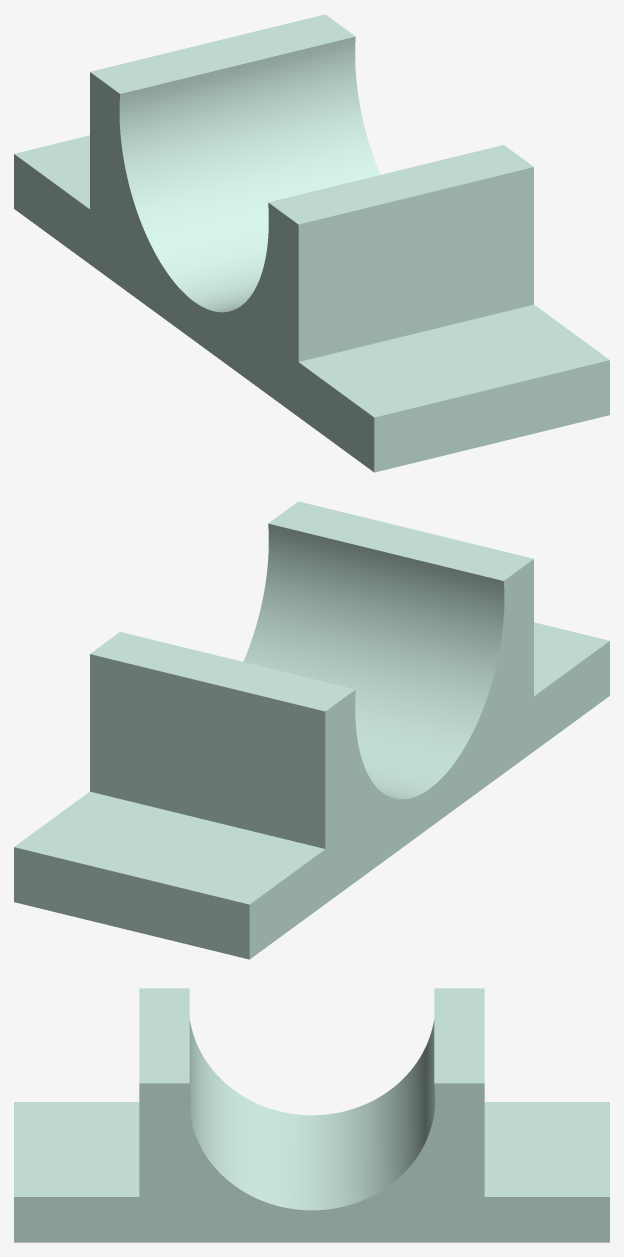
The picture shows the model from 3 angles, top to bottom: view 1: azimuth 30°, elevation 25°; view 2: azimuth 150°, elevation 25°; view 3: azimuth 270°, elevation 25°; orthographic projection. The views are drawn at different scales.
Visible parts, largest first — view 1: Renderer Node; view 2: Renderer Node; view 3: Renderer Node.
Part boxes in pixels (<box>): Renderer Node: <box>14,14,609,472</box>; Renderer Node: <box>14,501,609,959</box>; Renderer Node: <box>14,988,609,1242</box>.
Bounding box in the file's own units: 0.4453 × 0.3477 × 1.18.
